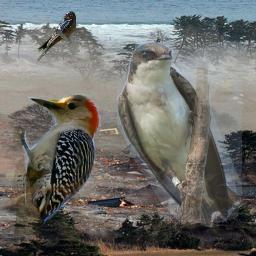Swallow: (117, 42, 242, 229), (37, 11, 76, 61)
Woodpecker: (10, 87, 118, 235)
